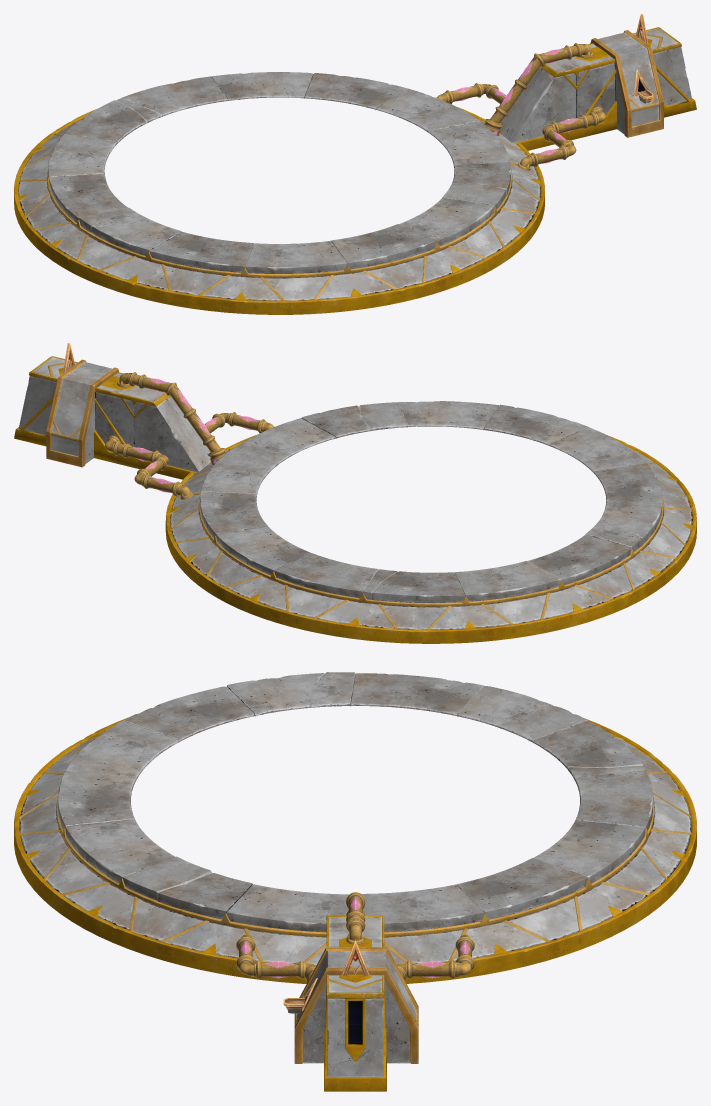
The picture shows the model from 3 angles, top to bottom: view 1: azimuth 30°, elevation 25°; view 2: azimuth 150°, elevation 25°; view 3: azimuth 270°, elevation 25°; orthographic projection. The views are drawn at different scales.
Visible parts, largest first — view 1: SM_Anti_Dragon_Device_01_LOD0; view 2: SM_Anti_Dragon_Device_01_LOD0; view 3: SM_Anti_Dragon_Device_01_LOD0.
Part boxes in pixels (bbox=[...]): SM_Anti_Dragon_Device_01_LOD0: bbox=[14, 14, 696, 314]; SM_Anti_Dragon_Device_01_LOD0: bbox=[14, 343, 696, 643]; SM_Anti_Dragon_Device_01_LOD0: bbox=[14, 672, 696, 1091].
Bounding box in the file's own units: 13.11 × 1.98 × 9.49.
3 materials, 3 textured.
